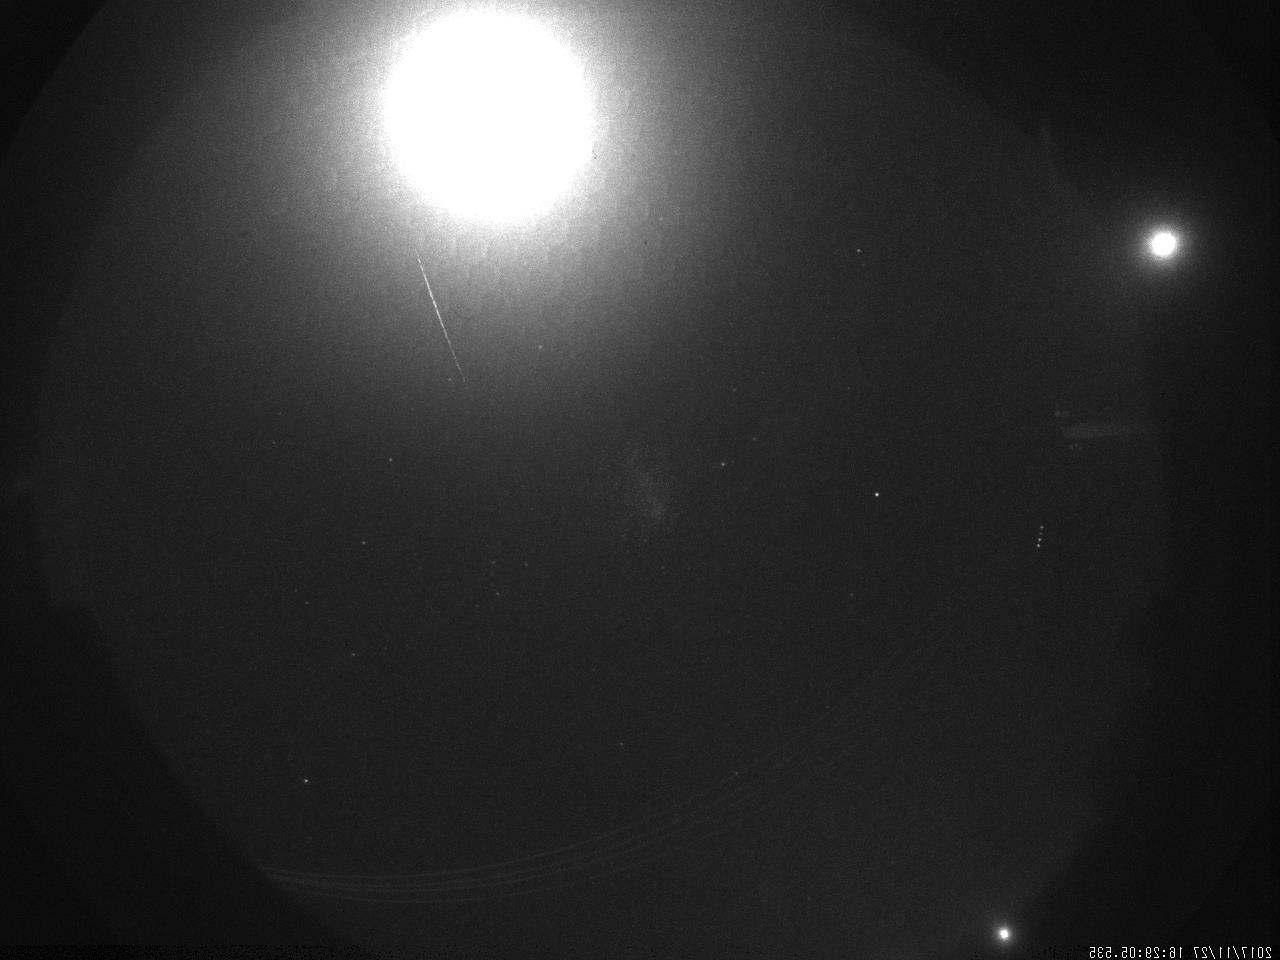meteor: (408, 223, 457, 421)
